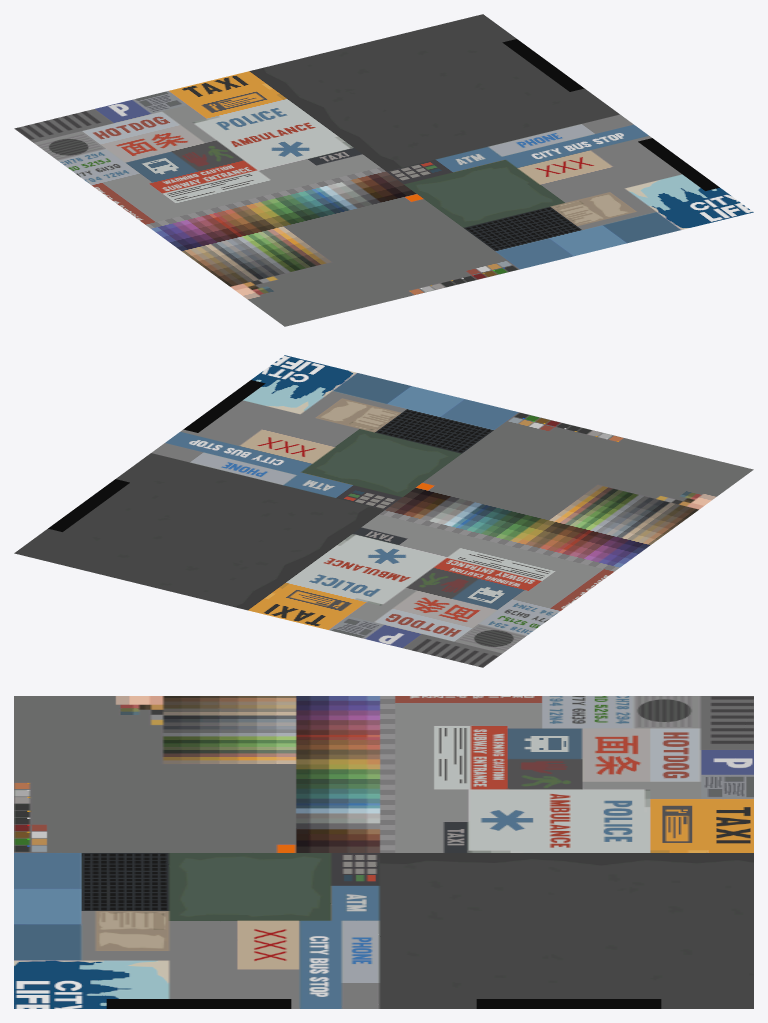
File: City_SM_Env_Road_410.gltf
3 renders of one model, top to bottom at view 1: azimuth 30°, elevation 25°; view 2: azimuth 150°, elevation 25°; view 3: azimuth 270°, elevation 25°, orthographic. The views are drawn at different scales.
Visible parts, largest first — view 1: SM_Env_Road_38; view 2: SM_Env_Road_38; view 3: SM_Env_Road_38.
Part boxes in pixels (box(x1,y1,x2,y2)): SM_Env_Road_38: box(14, 14, 753, 326); SM_Env_Road_38: box(14, 355, 753, 667); SM_Env_Road_38: box(14, 696, 753, 1008).
Size of the model in its own units: 5 by 0 by 5.
